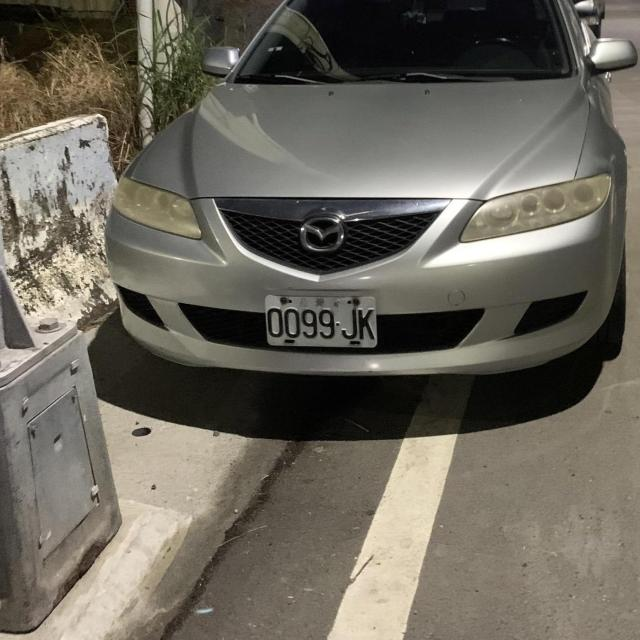W: (252, 283, 388, 361)
